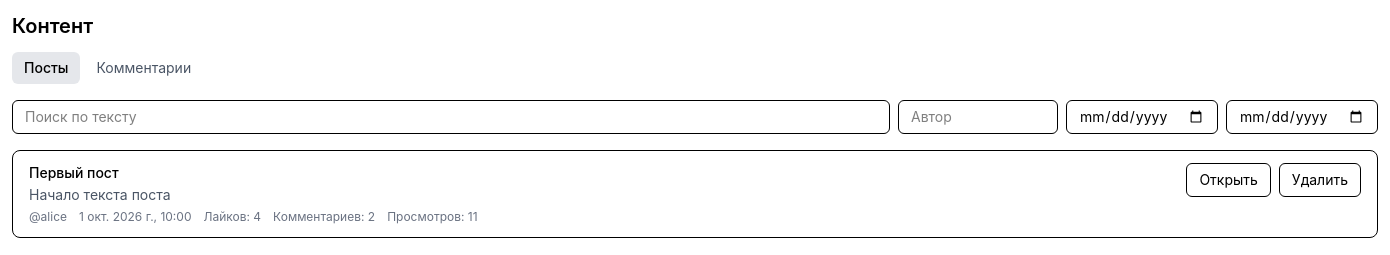
Test: AdminContentPage: права модератора › модератору недоступно удаление комментария модератора
The width and height of the screenshot is (1390, 255).
Click the button "Комментарии" at (144, 68), box top-left (84, 52), bottom-right (203, 84)
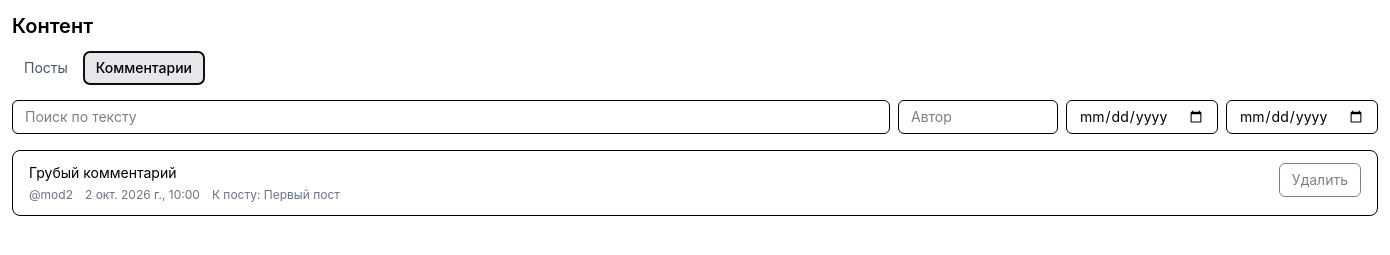
Now the button "Удалить" is disabled, box top-left (1279, 163), bottom-right (1361, 197)
